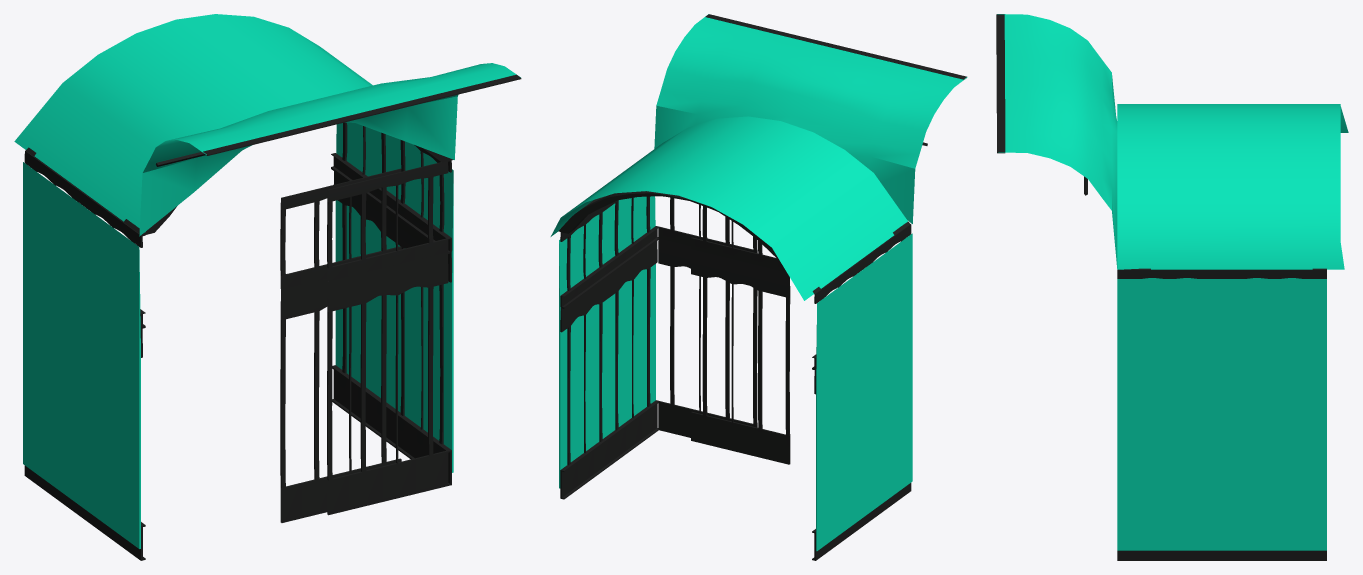
The model's file is GardenGate.fbx.
3 renders of one model, left to right at view 1: azimuth 30°, elevation 25°; view 2: azimuth 150°, elevation 25°; view 3: azimuth 270°, elevation 25°, orthographic. The views are drawn at different scales.
Visible parts, largest first — view 1: GardenGate; view 2: GardenGate; view 3: GardenGate.
Boxes of the visible parts, bbox=[...] form: GardenGate: bbox=[14, 14, 521, 560]; GardenGate: bbox=[550, 14, 967, 560]; GardenGate: bbox=[996, 14, 1348, 560].
Size of the model in its own units: 238 by 328 by 256.
